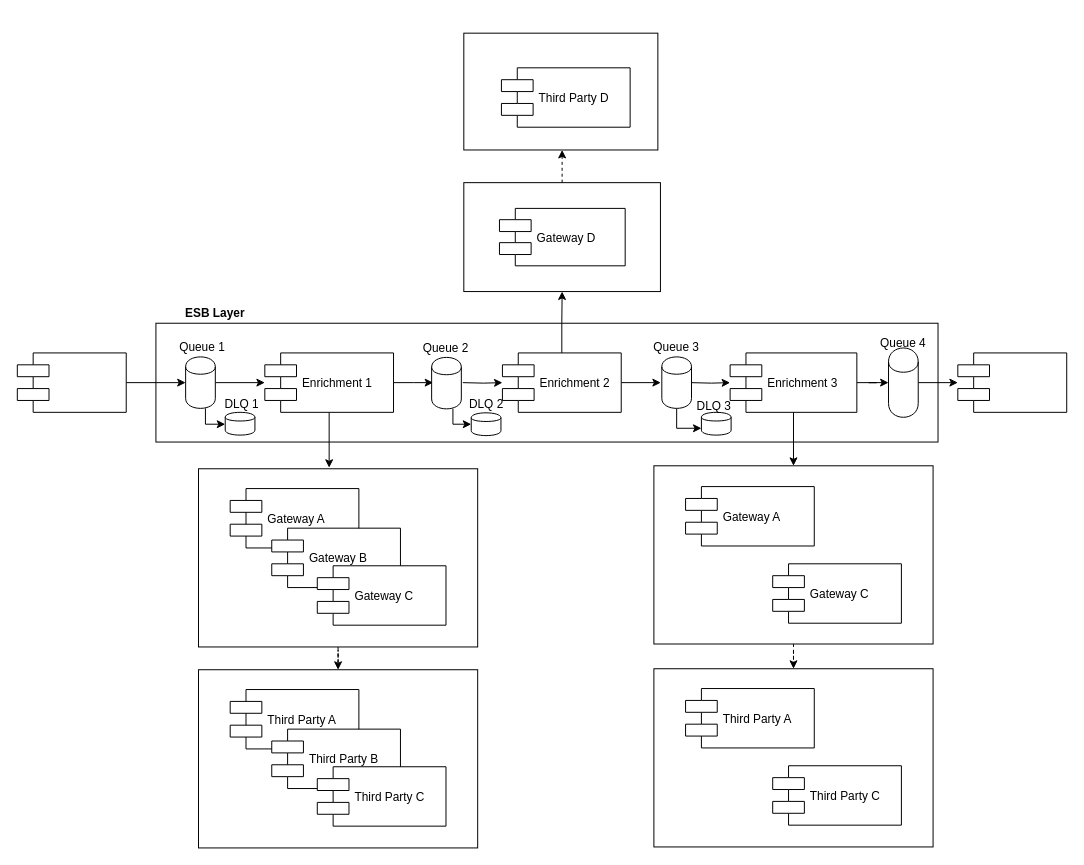
Image size: 1084x865. Some labels were removed from this diagram. Each missing label, with the centre of its shape:
"Consumer" goes at point (1012, 382).
"Producer" goes at point (71, 382).
